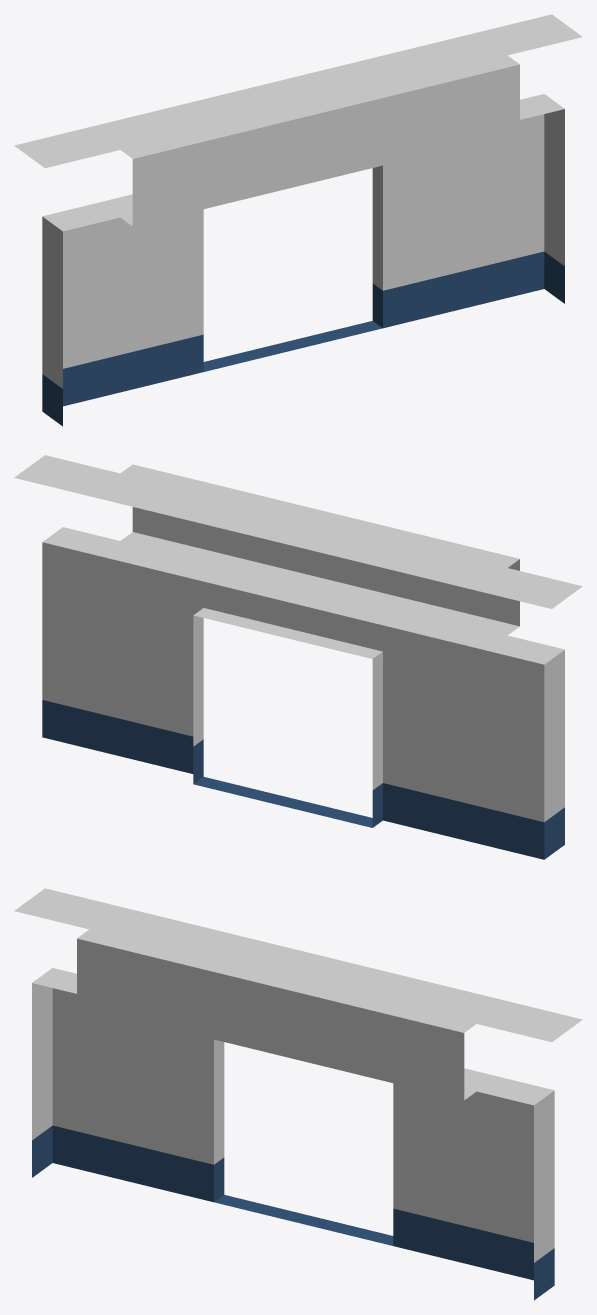
The model's file is M_WallDoorHT375DWhite80-4.fbx.
The picture shows the model from 3 angles, top to bottom: view 1: azimuth 30°, elevation 25°; view 2: azimuth 150°, elevation 25°; view 3: azimuth 330°, elevation 25°; orthographic projection.
Visible parts, largest first — view 1: M_WallDoorHT375DWhite80-4; view 2: M_WallDoorHT375DWhite80-4; view 3: M_WallDoorHT375DWhite80-4.
Boxes of the visible parts, box(x1,y1,x2,y2) form: M_WallDoorHT375DWhite80-4: box(14, 14, 582, 426); M_WallDoorHT375DWhite80-4: box(14, 455, 582, 859); M_WallDoorHT375DWhite80-4: box(14, 888, 582, 1300).
Size of the model in its own units: 750 by 105 by 350.
